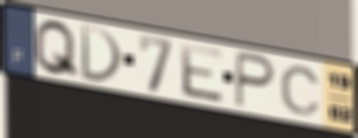7: (137, 33, 175, 95)
C: (278, 64, 323, 117)
D: (78, 22, 125, 86)
E: (178, 41, 227, 106)
P: (233, 48, 278, 112)
Q: (30, 18, 82, 81)
